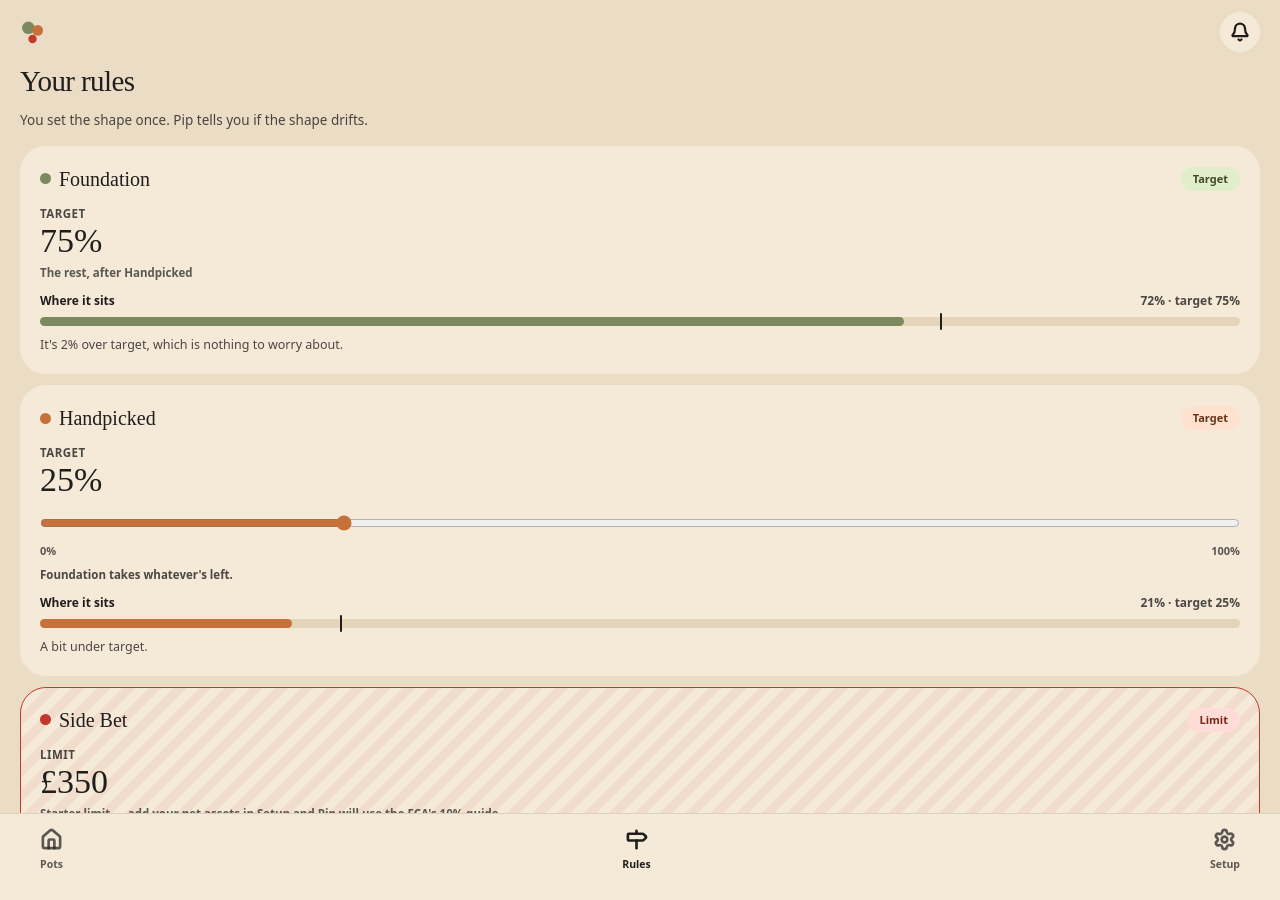
Test case: changing your rules › lets Handpicked take all of it, or none
Set the slider named "Handpicked's target" to "100": (1232,523) [40,509,1240,537]
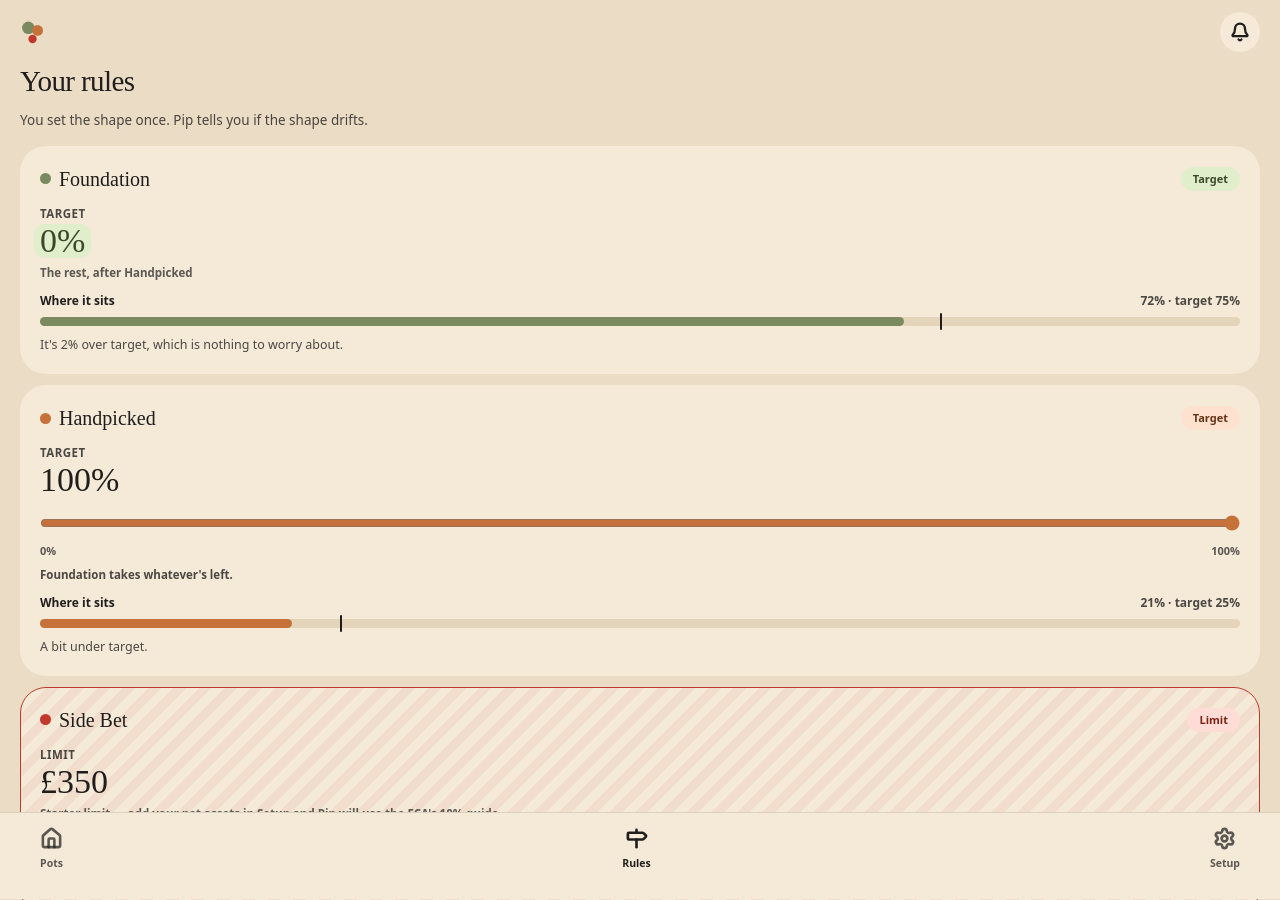
Expected: the 1st text "0%" is shown, [34,224,91,258]
